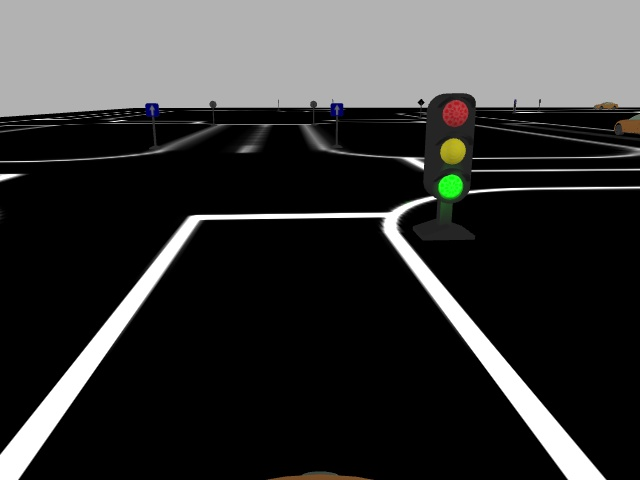green_light: (424, 91, 476, 202)
oneway: (143, 103, 160, 119), (329, 102, 344, 117)
